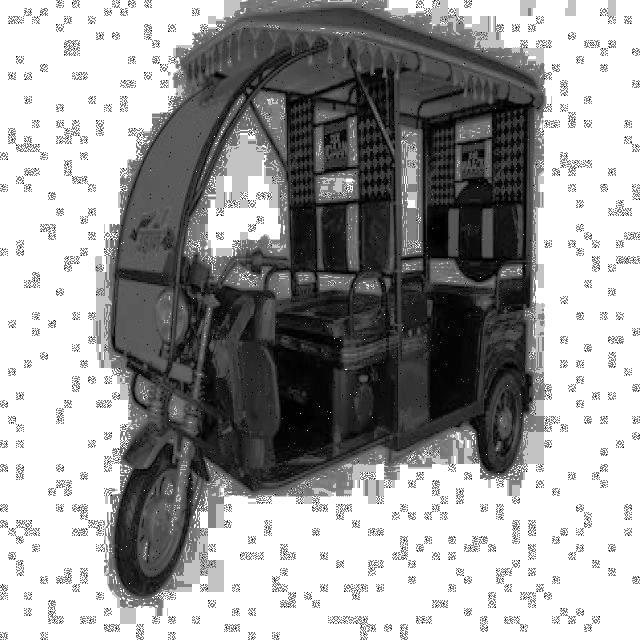Toto: (104, 9, 554, 612)
